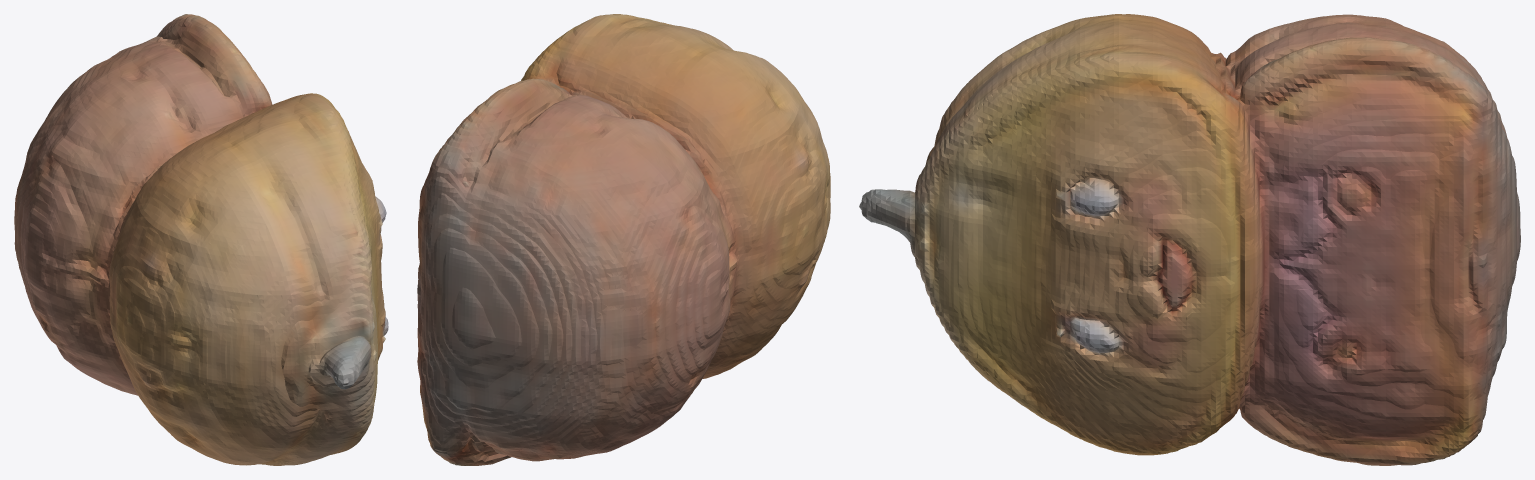
3 renders of one model, left to right at view 1: azimuth 30°, elevation 25°; view 2: azimuth 150°, elevation 25°; view 3: azimuth 270°, elevation 25°, orthographic. The views are drawn at different scales.
Parts seen in each view (by area): view 1: world; view 2: world; view 3: world.
Part boxes in pixels (left/top/right/bottom): world: left=14, top=14, right=388, bottom=465; world: left=417, top=14, right=830, bottom=465; world: left=859, top=14, right=1520, bottom=465.
Size of the model in its own units: 0.5042 by 0.6552 by 0.9302.
